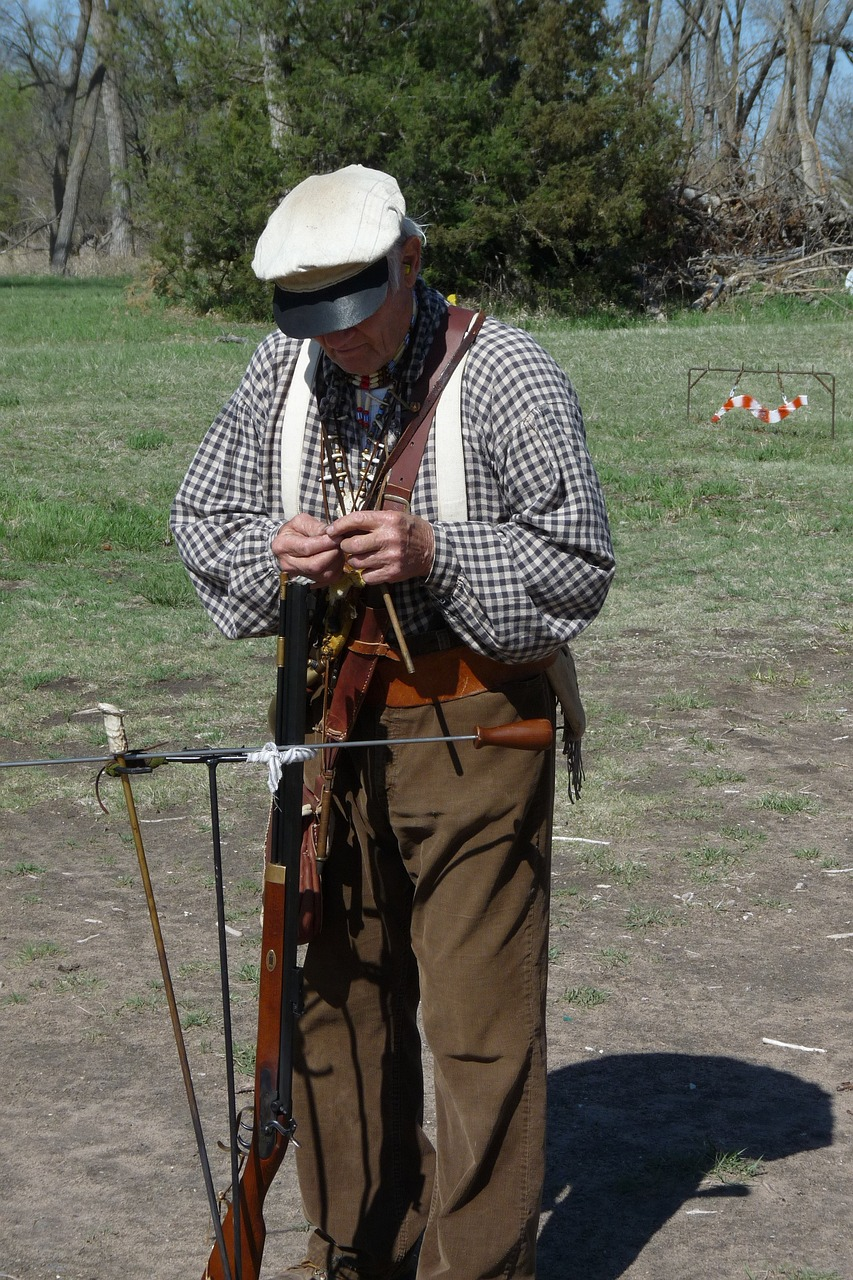gun: (192, 577, 331, 1280)
